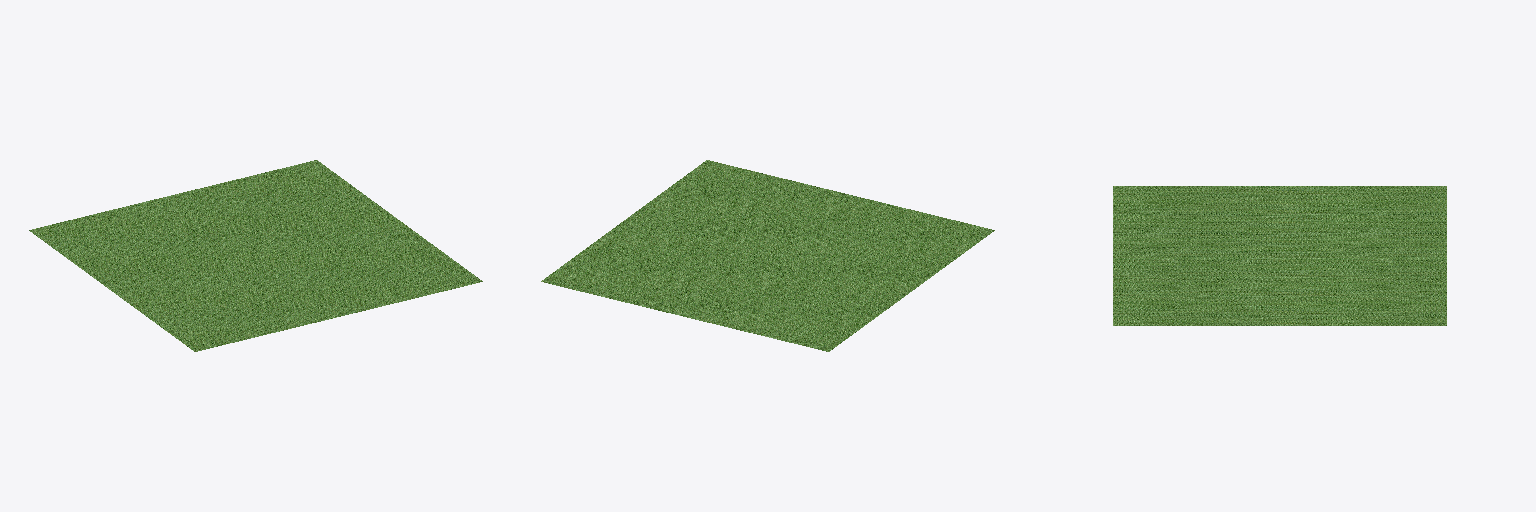
The picture shows the model from 3 angles: view 1: azimuth 30°, elevation 25°; view 2: azimuth 150°, elevation 25°; view 3: azimuth 270°, elevation 25°; orthographic projection.
Visible parts, largest first — view 1: Plane; view 2: Plane; view 3: Plane.
Boxes of the visible parts, x1,y1,x2,y2 form: Plane: [29, 160, 482, 351]; Plane: [541, 160, 994, 351]; Plane: [1113, 186, 1446, 325].
Size of the model in its own units: 2 by 0 by 2.
Materials: 1 (1 with a texture image).